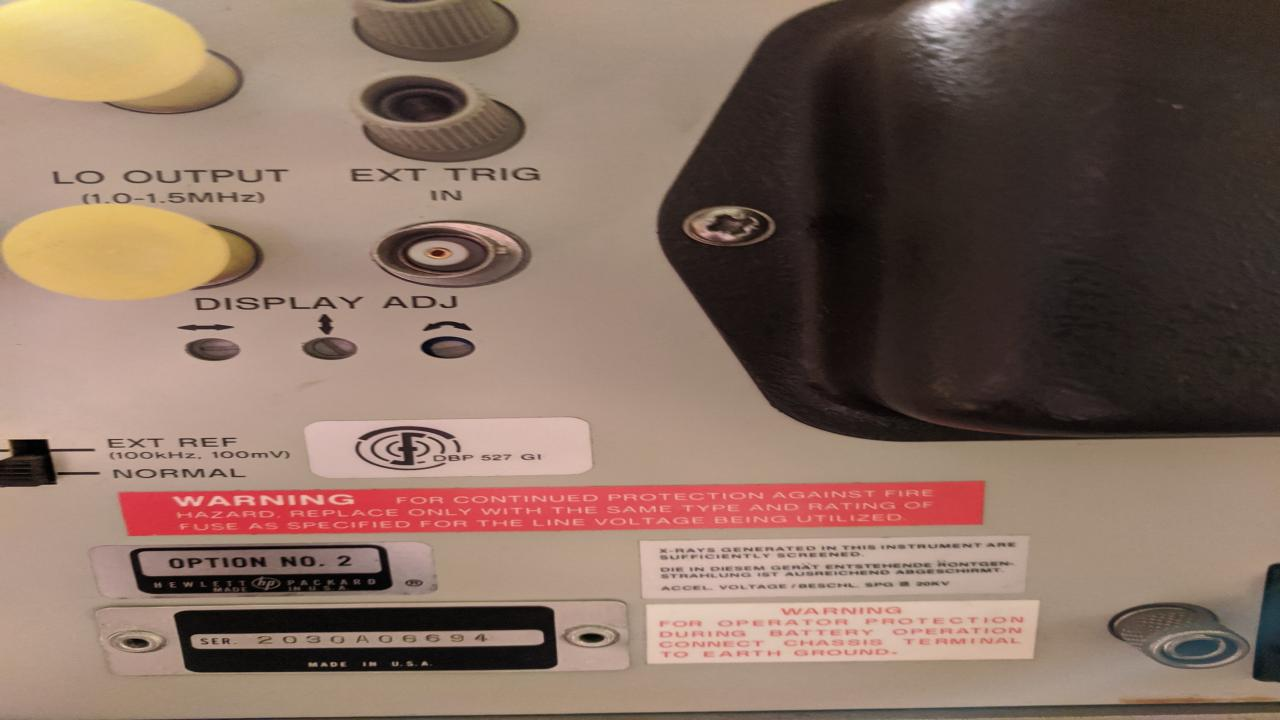CRS: (680, 204, 776, 248)
